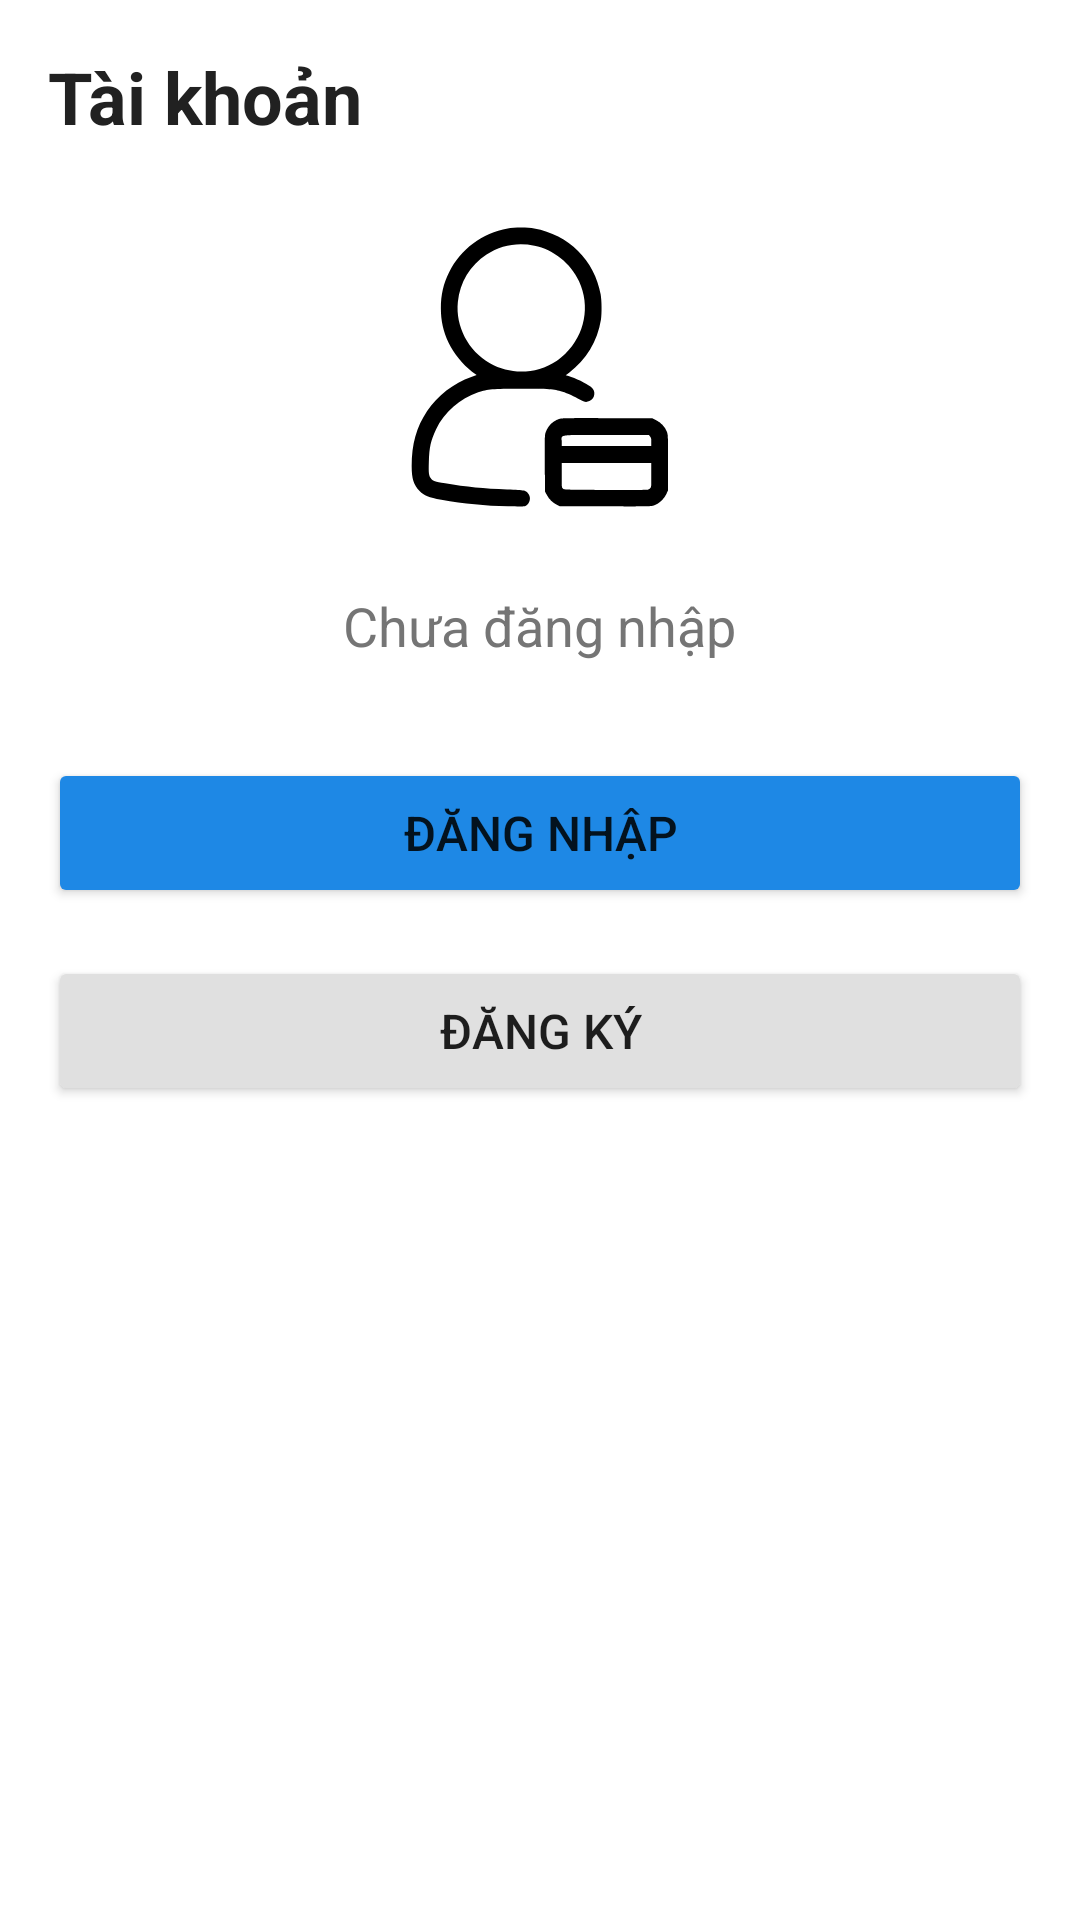

Named icons in this screenshot (1080 × 1920) and their bounding boxes, (x1,y1,x2,y2):
account: (411,227,668,507)
